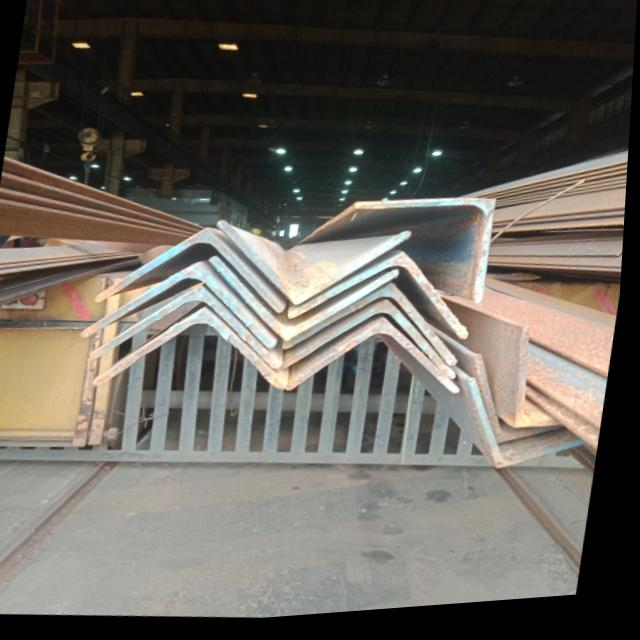metal-angles: (83, 266, 280, 352), (219, 223, 414, 309), (213, 260, 403, 346), (94, 289, 285, 374), (291, 258, 473, 347), (96, 310, 291, 393), (98, 233, 286, 317), (357, 205, 498, 312), (286, 288, 462, 372), (284, 304, 460, 387), (289, 326, 464, 401), (472, 384, 592, 478), (479, 361, 570, 452), (517, 330, 569, 438)
